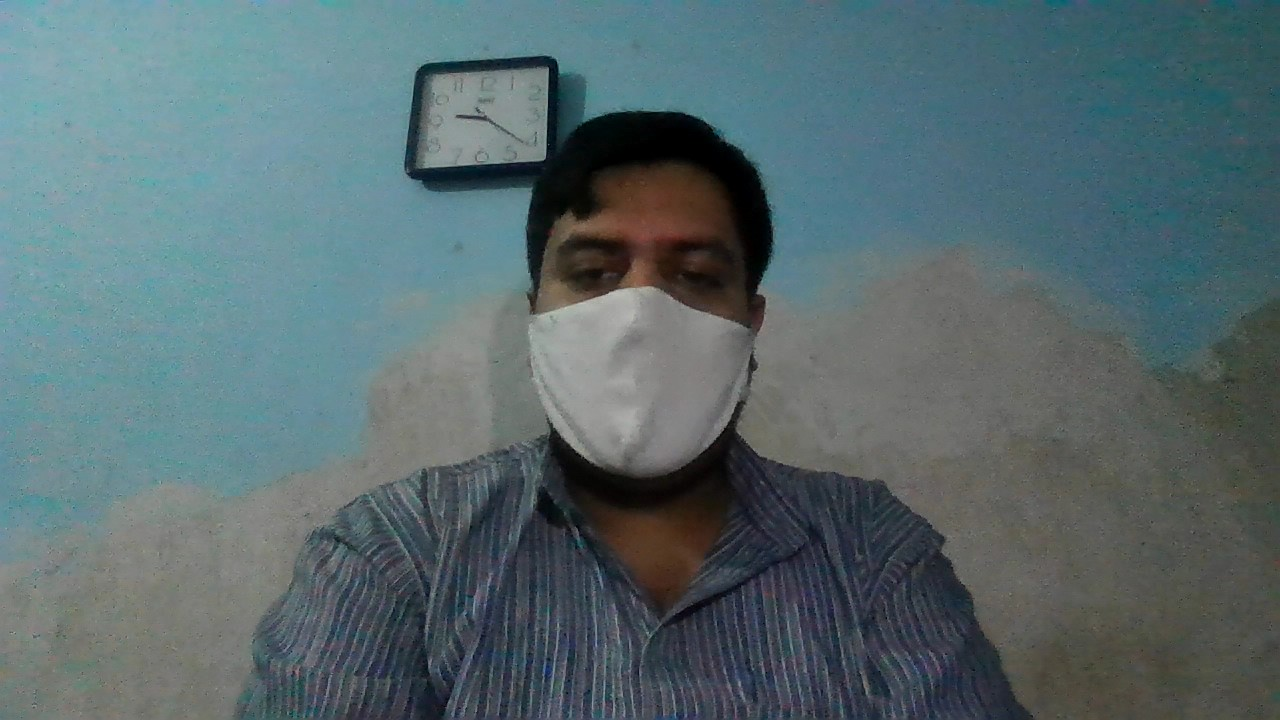Mask: (523, 289, 766, 480)
